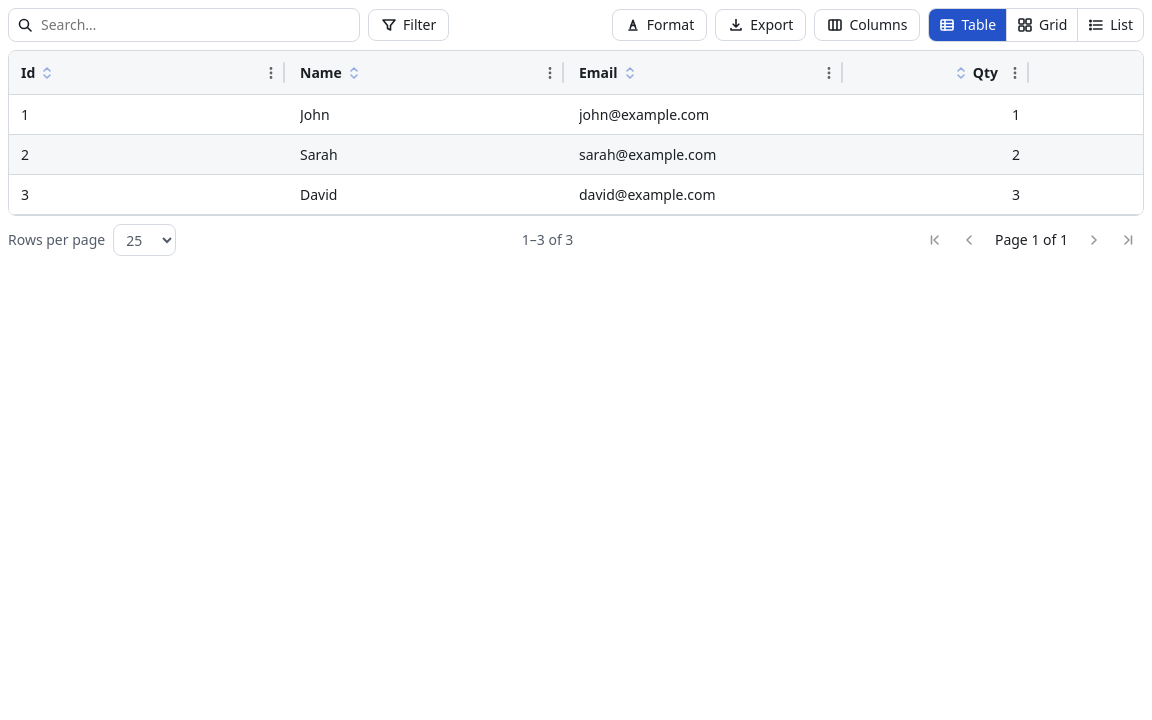
Test: row context menu › closes on Escape and outside click, and keeps a single menu when another row is right-clicked
This screenshot has width=1152, height=720.
Right-click the row "2 Sarah sarah@example.com 2" at {"x": 576, "y": 155}, box [9,135,1143,175]
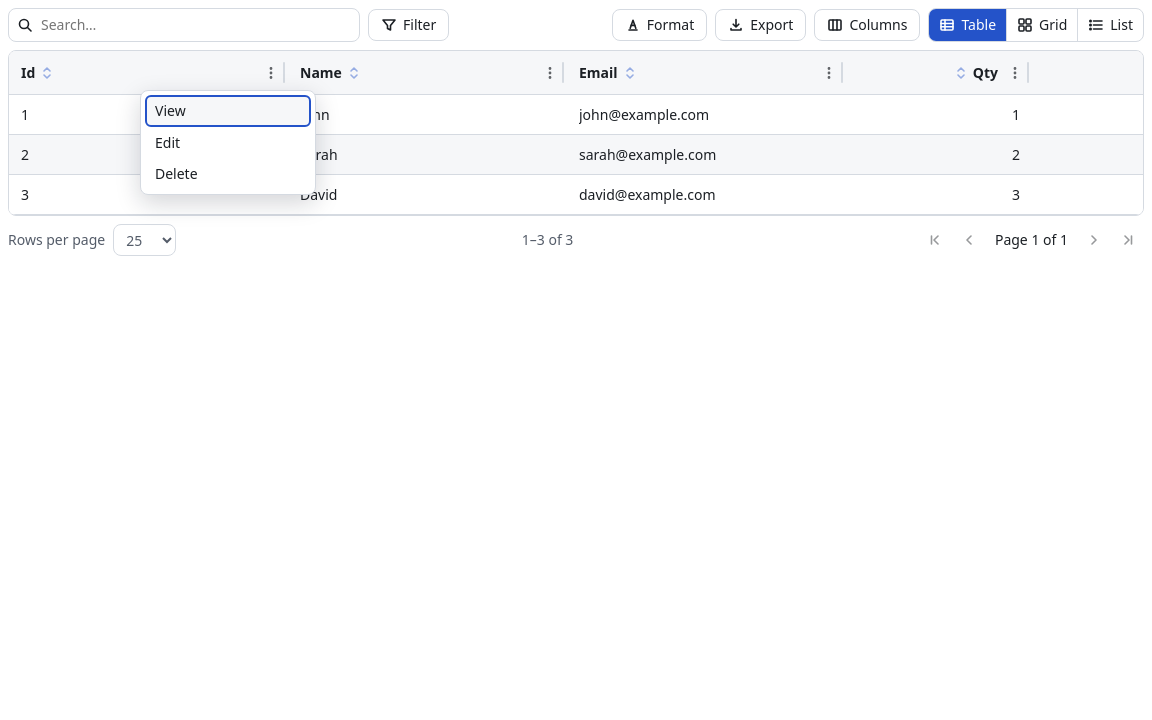
Press Escape in the menu, box [140,90,316,195]
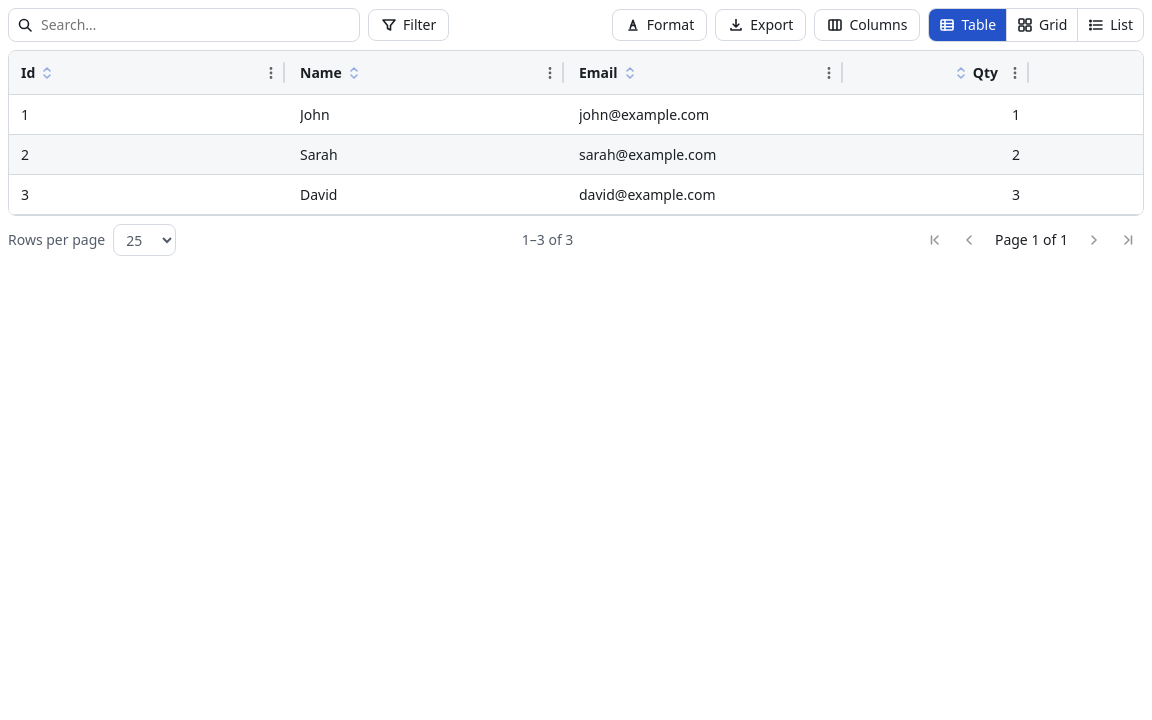
Check: the menu is gone
Right-click the row "2 Sarah sarah@example.com 2" at {"x": 576, "y": 155}, box [9,135,1143,175]
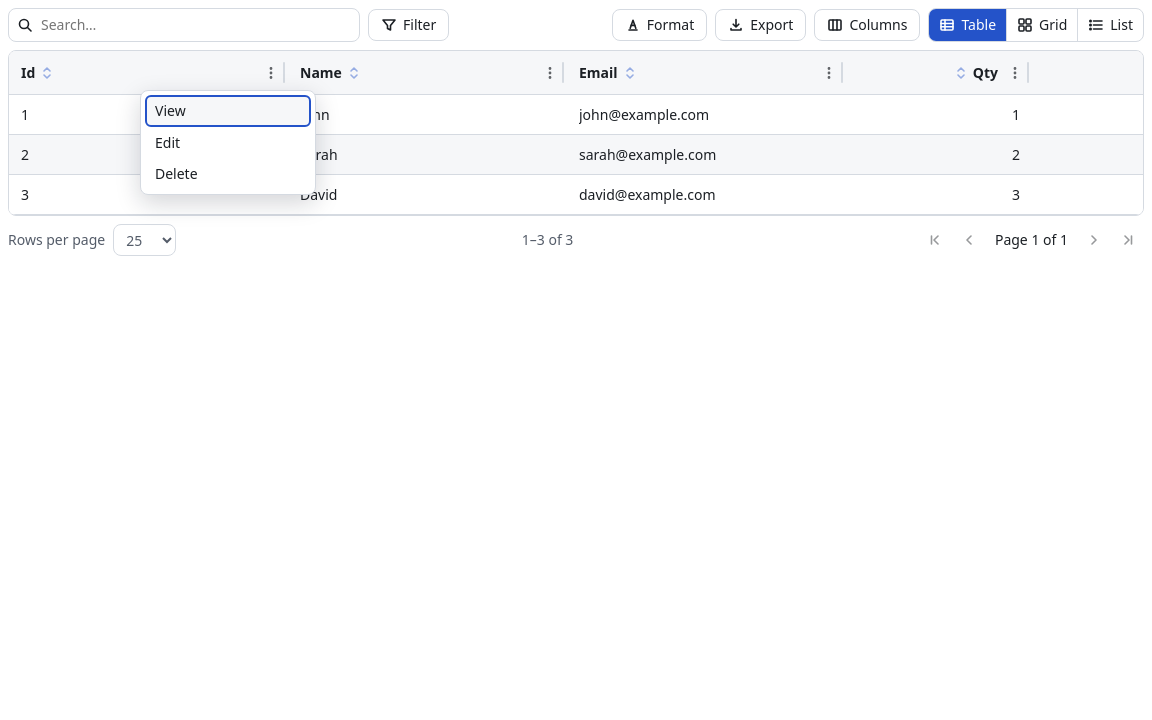
Press the mouse on the element that starts with "Filter" at {"x": 576, "y": 132}, box [8,8,1144,256]
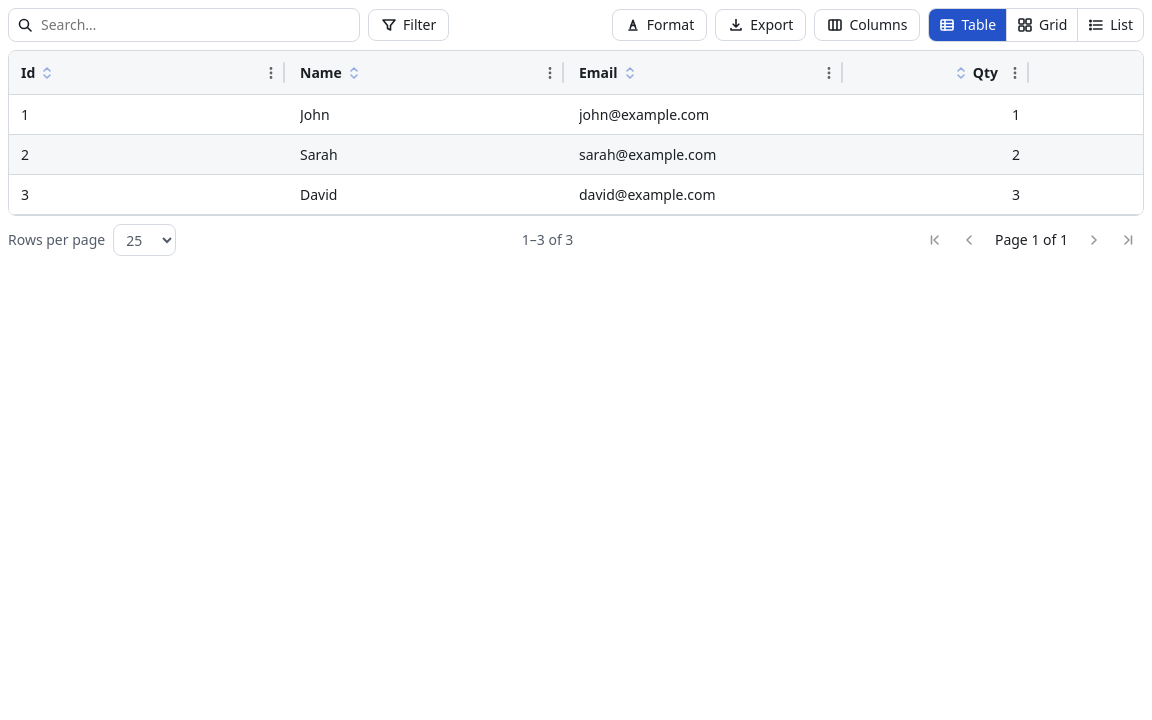
Check: the menu is gone
Right-click the row "2 Sarah sarah@example.com 2" at {"x": 576, "y": 155}, box [9,135,1143,175]
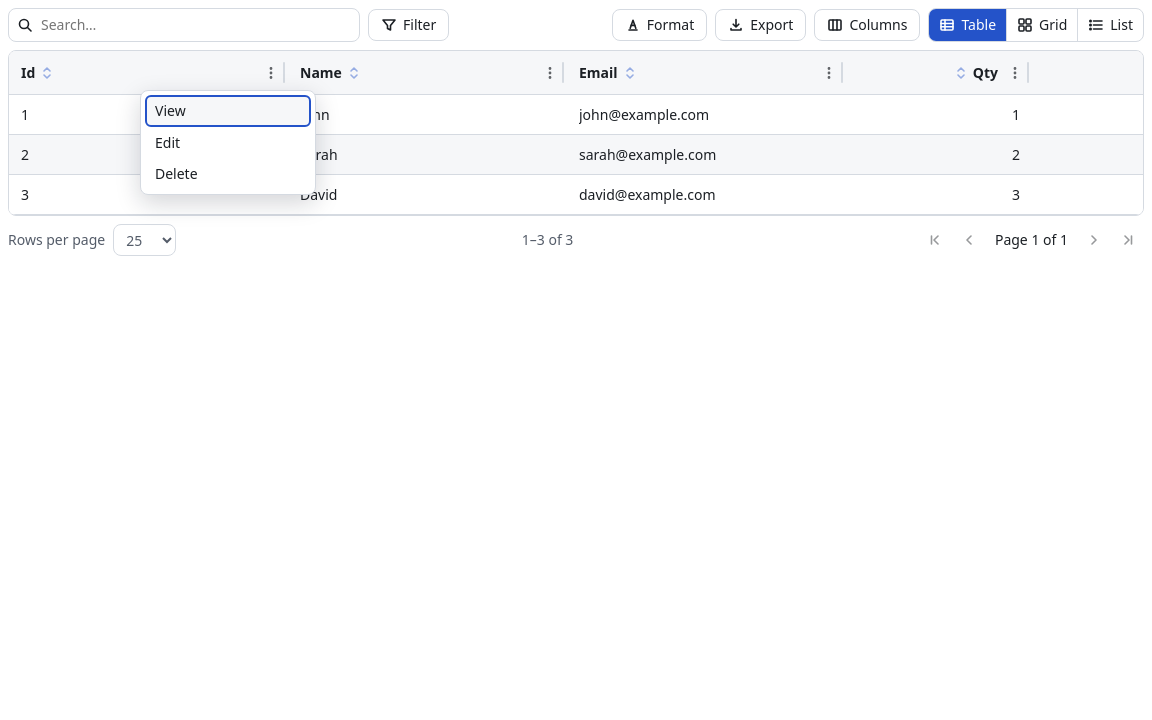
Right-click the row "3 David david@example.com 3" at {"x": 576, "y": 195}, box [9,175,1143,215]
Check: the number of menus is 1, box [140,90,316,195]
Click the menu item "View" at {"x": 228, "y": 111}, box [145,95,311,127]
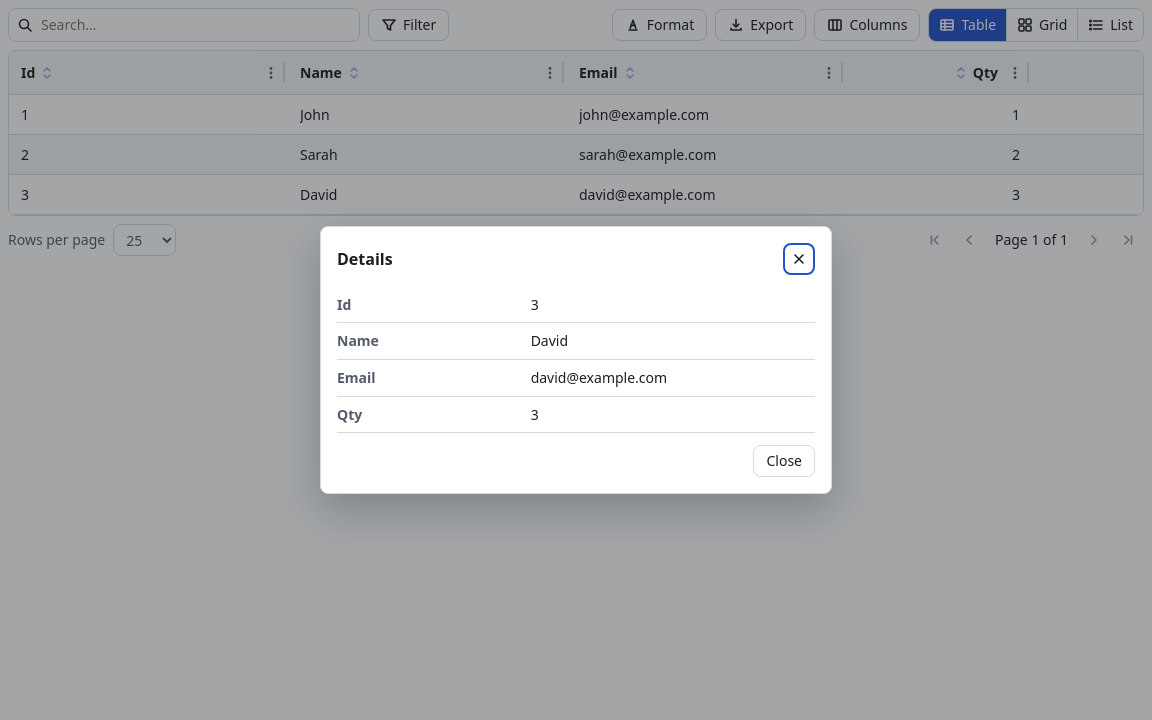
Check: the dialog "Details" does not show "sarah@example.com", box [320,226,832,494]
Check: the dialog "Details" shows "david@example.com", box [531,368,667,387]
